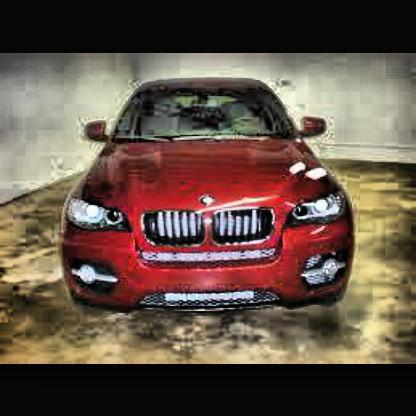BMW X6 SUV 2012: (62, 75, 362, 309)
